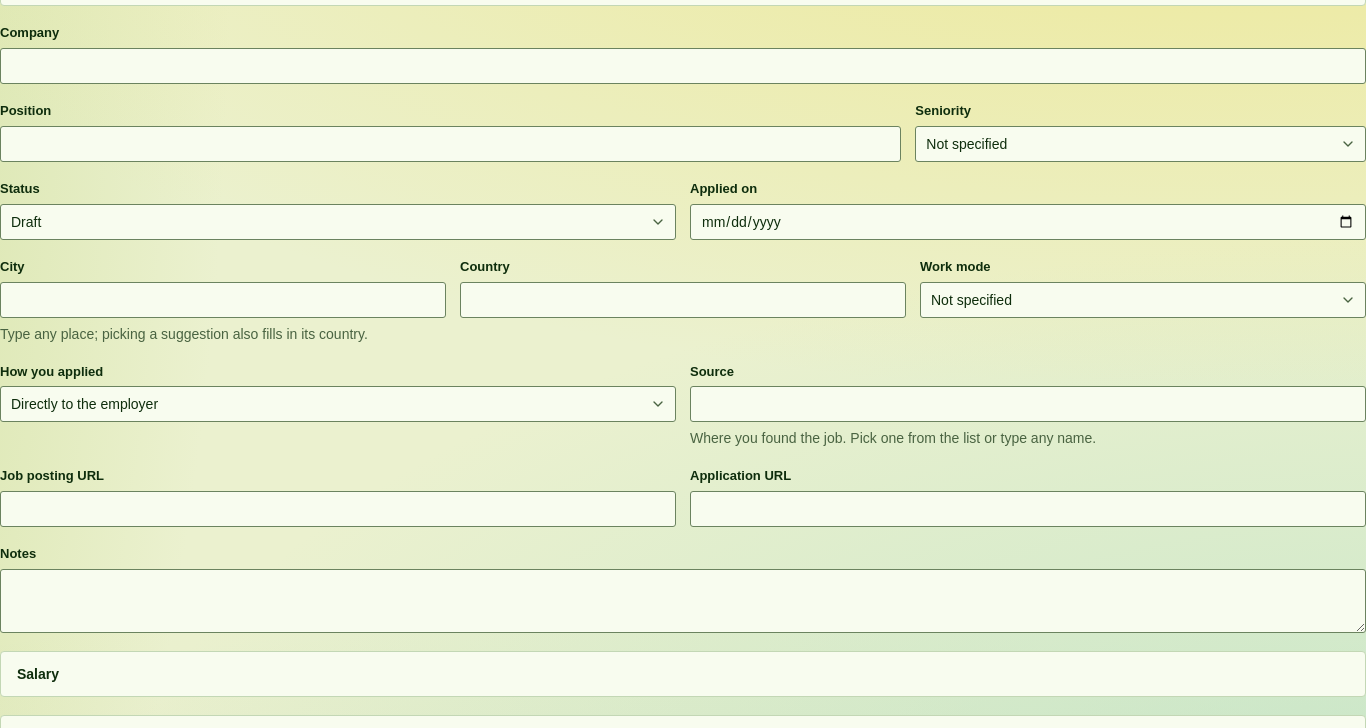
Scenario: ApplicationForm › shows the fields the server rejected
Type "Acme" into the field labelled "Company" at x=683, y=66, box x1=0 y1=48 x2=1365 y2=84
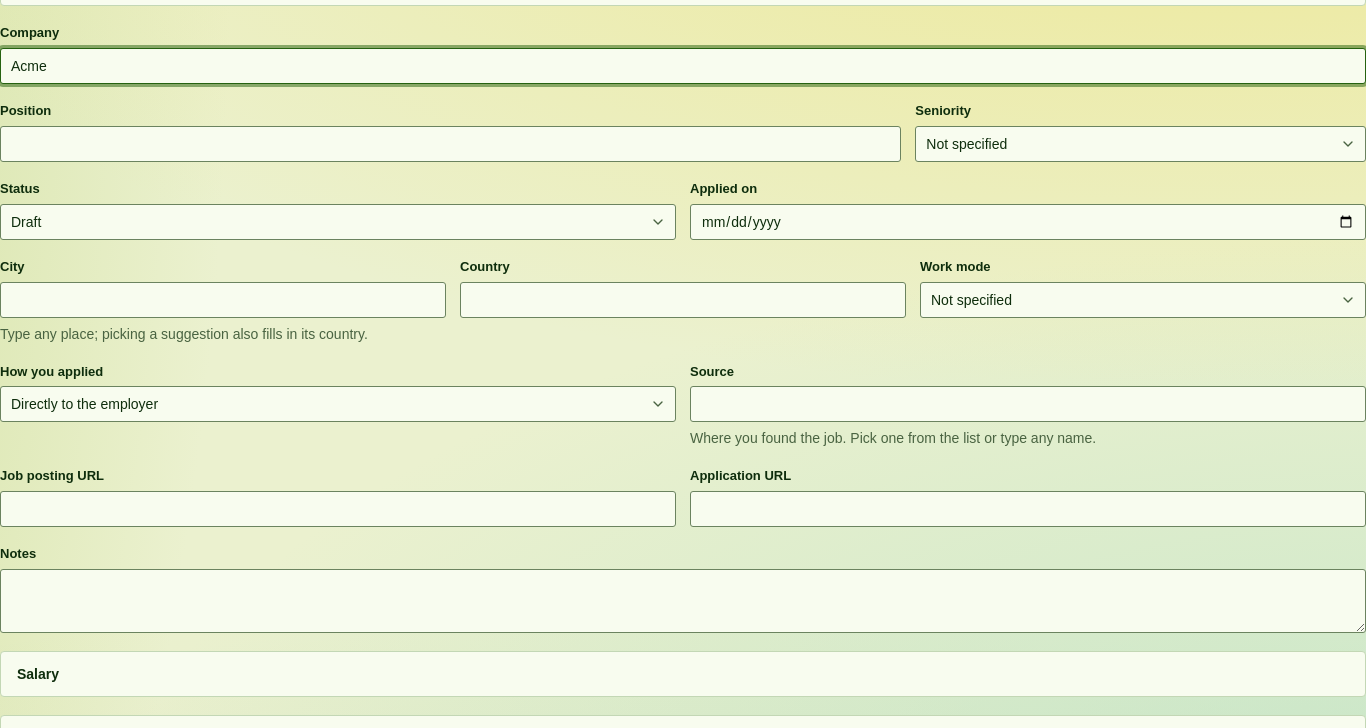
Type "Engineer" into the field labelled "Position" at x=451, y=144, box x1=0 y1=126 x2=901 y2=162
(page scrolled)
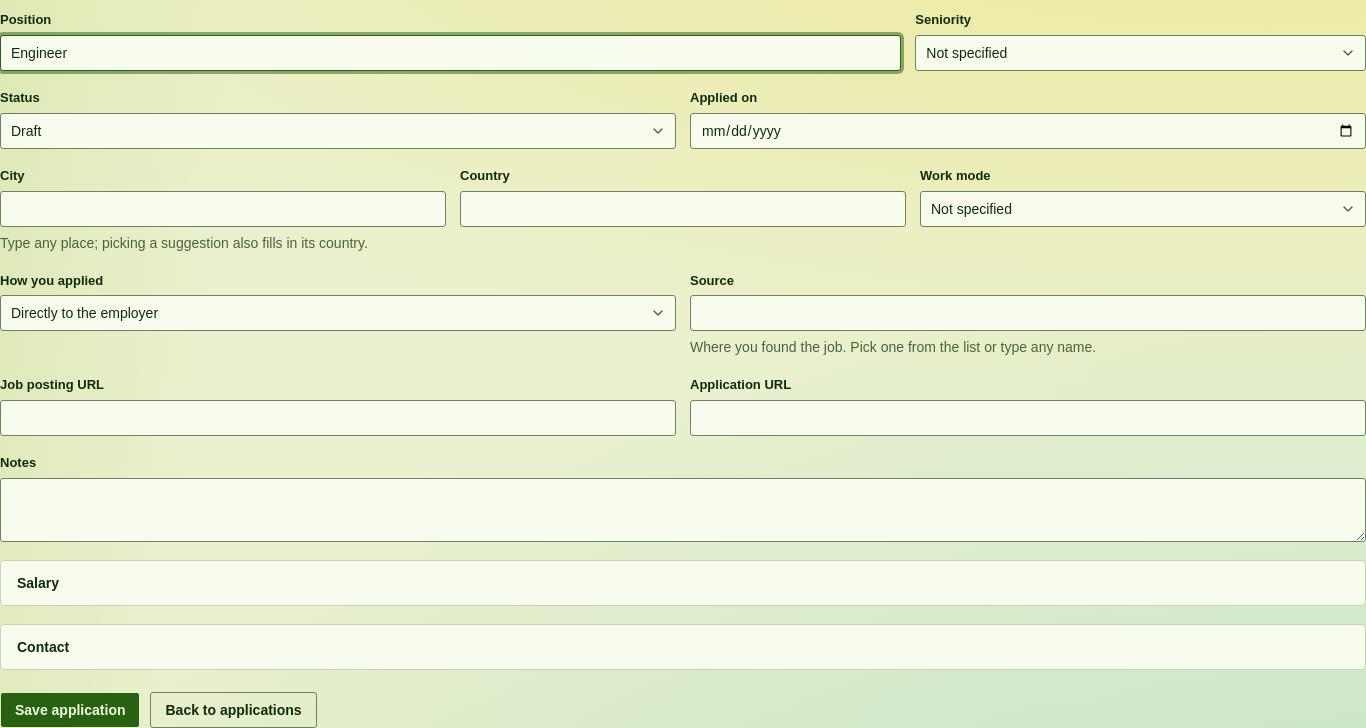
Click the button "Save application" at x=70, y=710, box x1=0 y1=692 x2=140 y2=727
(page scrolled)
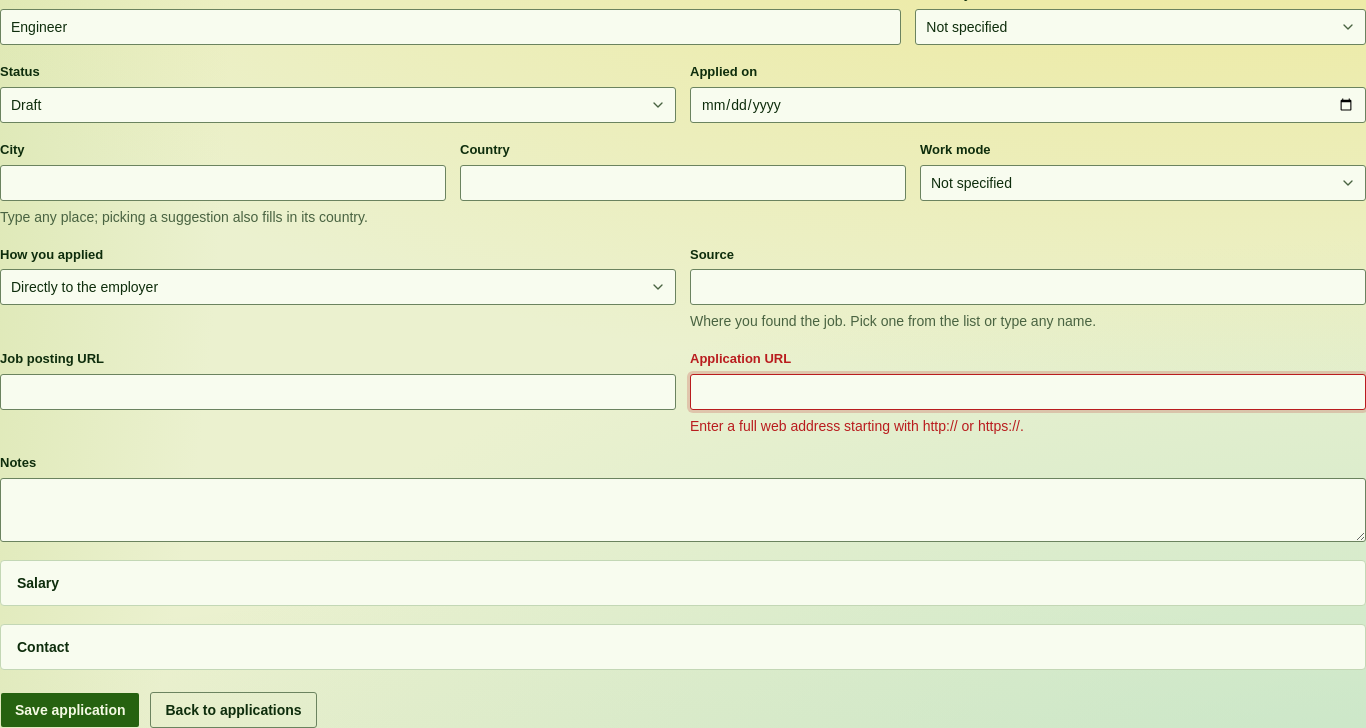
Expected: the message reads "Enter a full web address starting with http:// or https://.", x1=690 y1=418 x2=1024 y2=434
